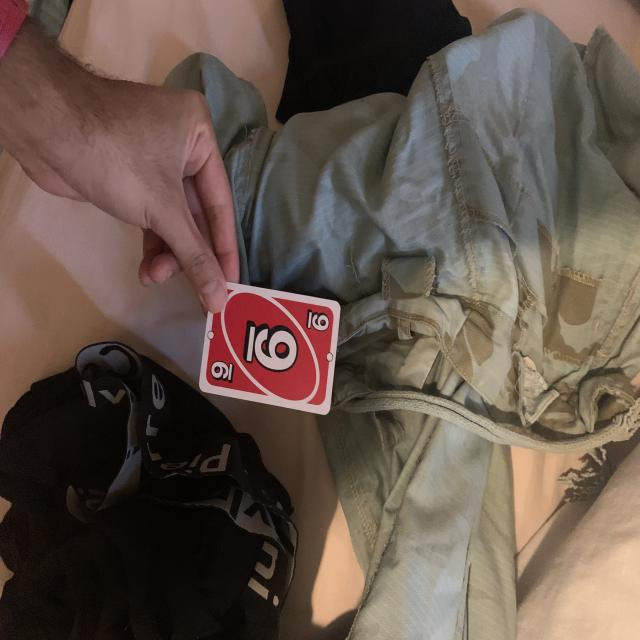lred-9: (206, 351, 237, 387)
